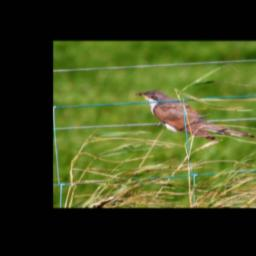Cuckoo: (134, 87, 256, 146)
